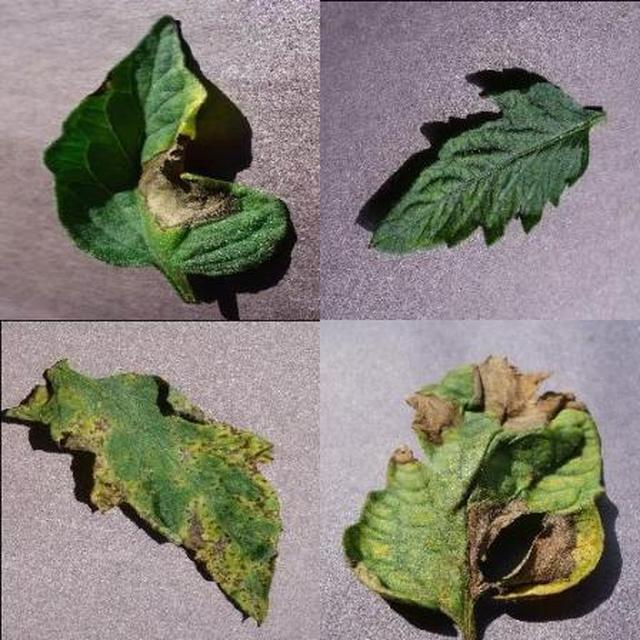Early Blight Leaf: (206, 210, 640, 640)
